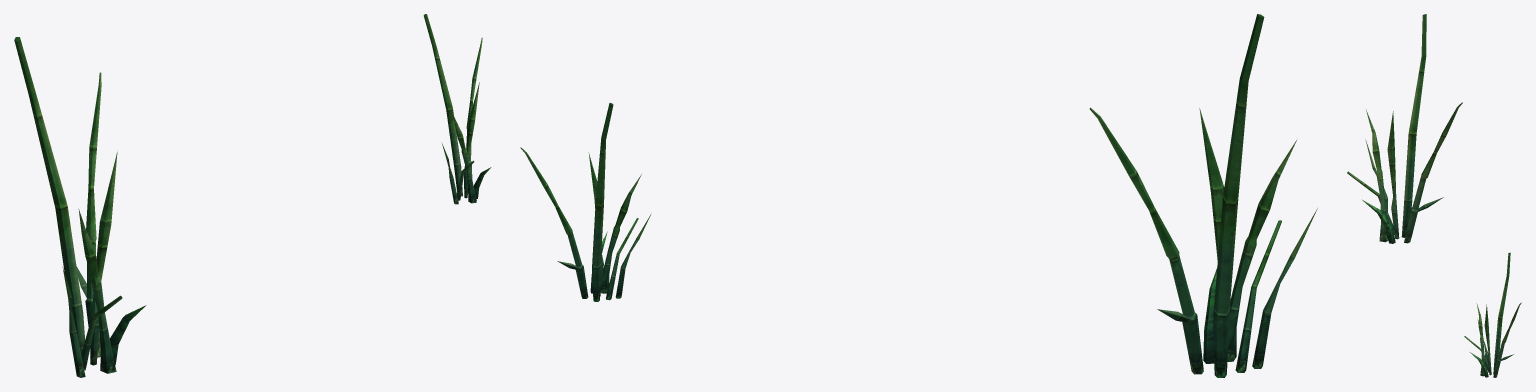
Rendered from Area_11_26.fbx.
3 views of the same model, side by side, from view 1: azimuth 30°, elevation 25°; view 2: azimuth 150°, elevation 25°; view 3: azimuth 270°, elevation 25° (orthographic). The views are drawn at different scales.
Parts seen in each view (by area): view 1: Area_11_26; view 2: Area_11_26; view 3: Area_11_26.
Boxes of the visible parts, x1,y1,x2,y2 form: Area_11_26: (14,14,491,377); Area_11_26: (520,14,1317,377); Area_11_26: (1347,14,1521,377).
Bounding box in the file's own units: 2470 × 1407 × 1073.
